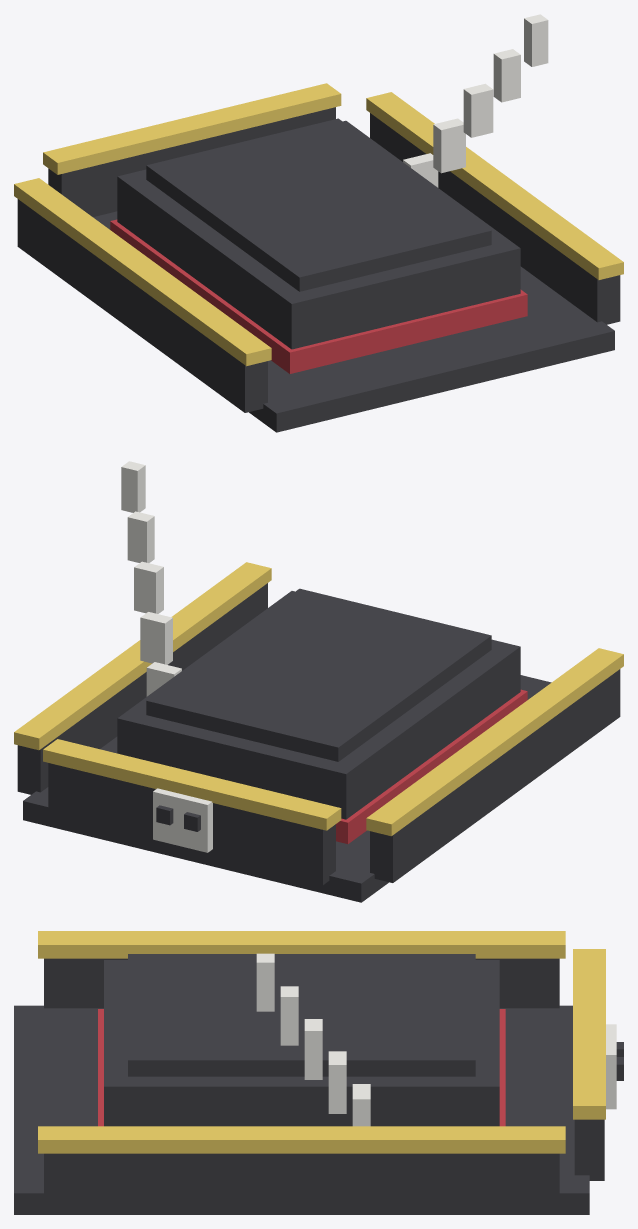
The model's file is chapeu_capitao_pirata.glb.
3 views of the same model, one above another, from view 1: azimuth 30°, elevation 25°; view 2: azimuth 150°, elevation 25°; view 3: azimuth 270°, elevation 25° (orthographic). The views are drawn at different scales.
Visible parts, largest first — view 1: chapeu_capitao_pirata; view 2: chapeu_capitao_pirata; view 3: chapeu_capitao_pirata.
Part boxes in pixels (bbox=[...]): chapeu_capitao_pirata: bbox=[14, 14, 623, 432]; chapeu_capitao_pirata: bbox=[14, 461, 623, 902]; chapeu_capitao_pirata: bbox=[14, 931, 623, 1214].
Bounding box in the file's own units: 0.8705 × 0.505 × 1.02.
